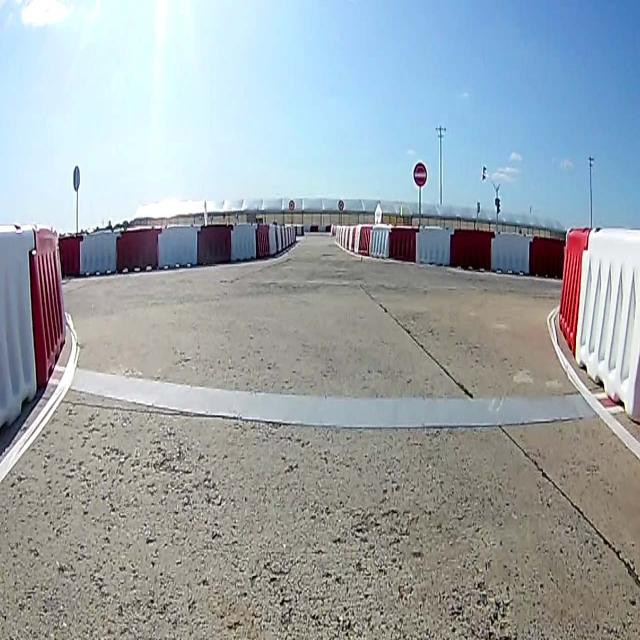girisyok: (413, 162, 427, 186)
